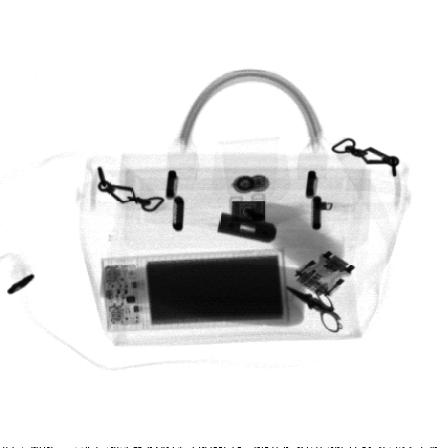Powerbank: (101, 249, 291, 333)
Scissors: (284, 284, 345, 335)
